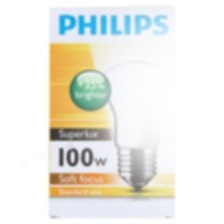book: (43, 3, 177, 219)
